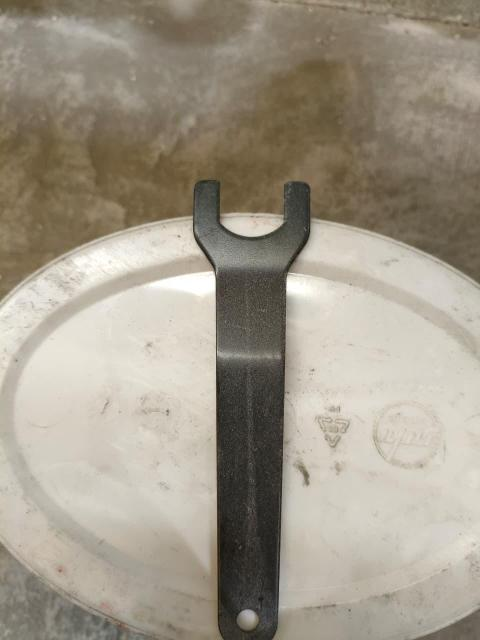Metal: (195, 168, 320, 640)
